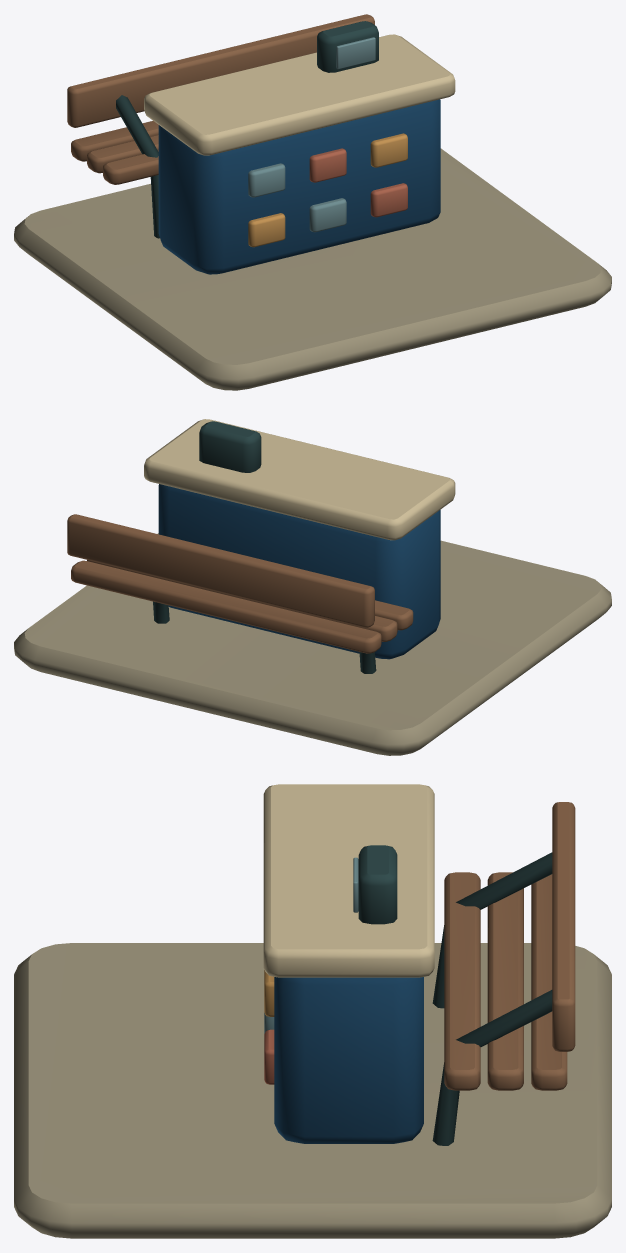
File: metro_mall_1.glb
The picture shows the model from 3 angles, top to bottom: view 1: azimuth 30°, elevation 25°; view 2: azimuth 150°, elevation 25°; view 3: azimuth 270°, elevation 25°; orthographic projection. The views are drawn at different scales.
Parts seen in each view (by area): view 1: Mall1; view 2: Mall1; view 3: Mall1.
Boxes of the visible parts, x1,y1,x2,y2 form: Mall1: (14, 14, 611, 390); Mall1: (14, 419, 611, 755); Mall1: (14, 784, 611, 1238).
Size of the model in its own units: 2.68 by 1.32 by 2.48.
